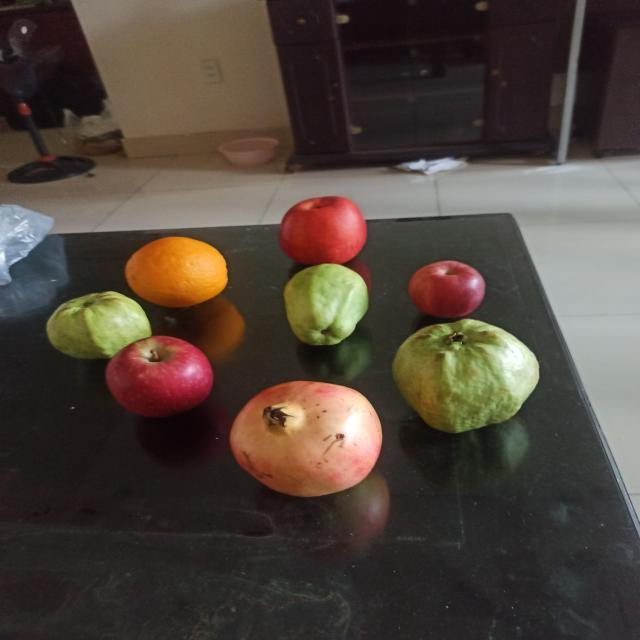apple: (105, 336, 214, 416), (280, 194, 365, 264), (407, 258, 485, 318)
